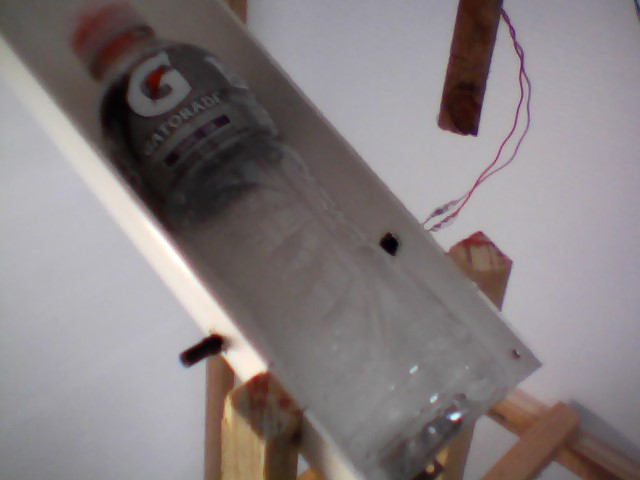plastico: (57, 10, 510, 480)
